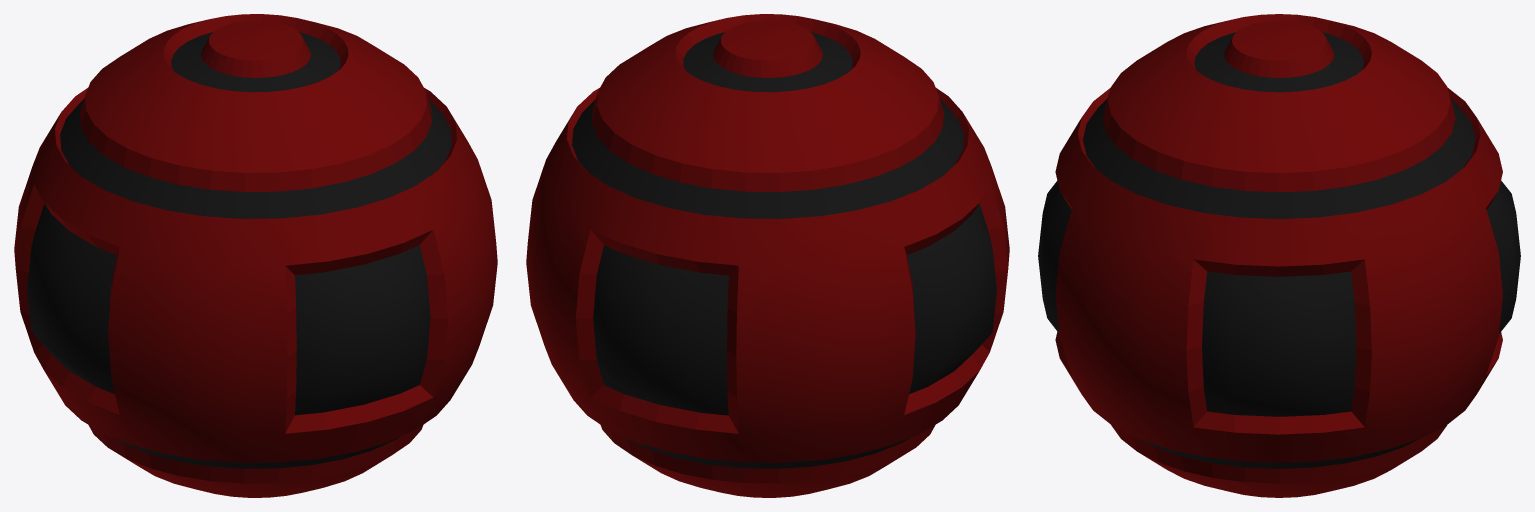
Rendered from Pinball.FBX.
The picture shows the model from 3 angles, left to right: view 1: azimuth 30°, elevation 25°; view 2: azimuth 150°, elevation 25°; view 3: azimuth 270°, elevation 25°; orthographic projection.
Parts seen in each view (by area): view 1: Pinball; view 2: Pinball; view 3: Pinball.
Part boxes in pixels (x1,y1,x2,y2): Pinball: (14,14,497,497); Pinball: (526,14,1009,497); Pinball: (1038,14,1520,497).
Size of the model in its own units: 0.2995 by 0.3 by 0.299.
